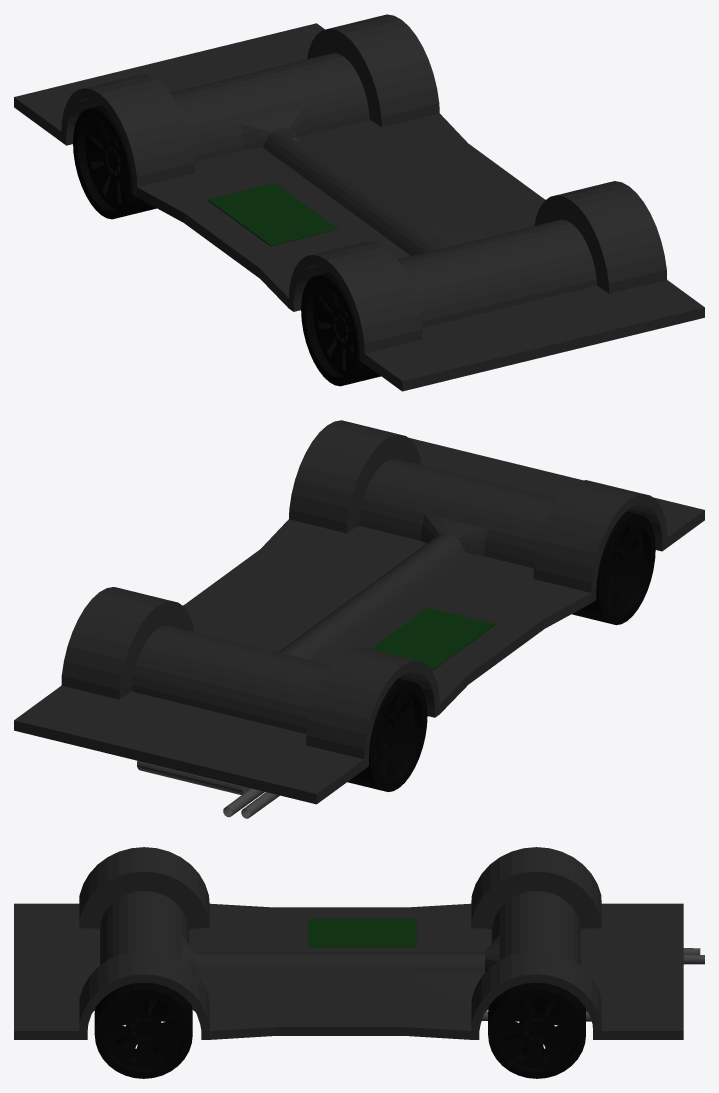
The model's file is chassis.fbx.
The picture shows the model from 3 angles, top to bottom: view 1: azimuth 30°, elevation 25°; view 2: azimuth 150°, elevation 25°; view 3: azimuth 270°, elevation 25°; orthographic projection. The views are drawn at different scales.
Parts seen in each view (by area): view 1: Plane, Circle; view 2: Plane, Circle; view 3: Plane, Circle.
Boxes of the visible parts, <box> form: Plane: <box>14,14,704,391</box>; Circle: <box>73,105,380,386</box>; Plane: <box>14,420,704,804</box>; Circle: <box>137,511,655,818</box>; Plane: <box>14,847,683,1039</box>; Circle: <box>94,948,704,1078</box>.
Bounding box in the file's own units: 895 × 346 × 2052.
